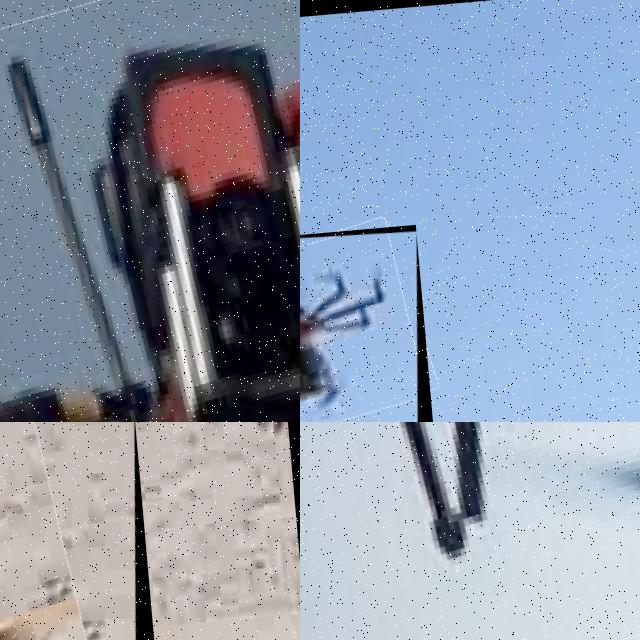0: (0, 422, 188, 640), (300, 224, 433, 422)
drone: (0, 0, 300, 422), (300, 422, 640, 640)
